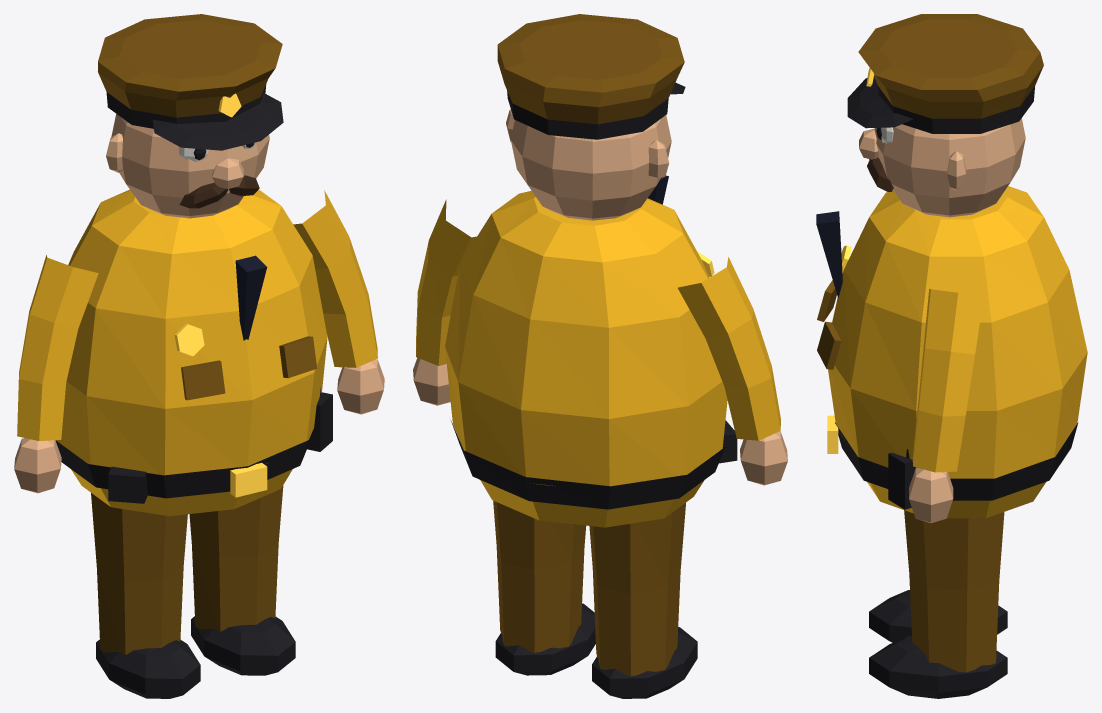
The model's file is cop_3.glb.
3 views of the same model, side by side, from view 1: azimuth 30°, elevation 25°; view 2: azimuth 150°, elevation 25°; view 3: azimuth 270°, elevation 25° (orthographic).
Parts seen in each view (by area): view 1: body_shirt, legs_pants, arms_shirt, cap_pants, legs_black, head_skin, body_black, cap_black, arms_skin, body_pants, body_gold, body_tie (+1 smaller); view 2: body_shirt, legs_pants, cap_pants, arms_shirt, head_skin, body_black, legs_black, arms_skin, cap_black; view 3: body_shirt, cap_pants, legs_pants, head_skin, arms_shirt, legs_black, body_black, cap_black, arms_skin, body_tie, body_pants, body_gold (+1 smaller).
Part boxes in pixels (x1,y1,x2,y2): body_shirt: (56, 189, 327, 516); legs_pants: (91, 485, 283, 654); arms_shirt: (17, 190, 377, 441); cap_pants: (98, 14, 282, 117); legs_black: (96, 616, 295, 698); head_skin: (106, 114, 269, 218); body_black: (55, 388, 332, 503); cap_black: (106, 84, 283, 150); arms_skin: (14, 359, 384, 493); body_pants: (181, 336, 316, 400); body_gold: (174, 324, 267, 497); body_tie: (235, 255, 267, 340); body_shirt: (445, 191, 727, 527); legs_pants: (493, 500, 685, 676); cap_pants: (497, 14, 684, 124); arms_shirt: (416, 199, 780, 440); head_skin: (506, 109, 671, 220); body_black: (450, 419, 737, 509); legs_black: (495, 603, 697, 698); arms_skin: (413, 358, 787, 485); cap_black: (507, 82, 685, 139); body_shirt: (828, 186, 1087, 518); cap_pants: (858, 14, 1043, 118); legs_pants: (904, 510, 1004, 672); head_skin: (859, 118, 1025, 217); arms_shirt: (912, 289, 983, 472); legs_black: (869, 590, 1007, 698); body_black: (835, 422, 1078, 509); cap_black: (847, 77, 1034, 133); arms_skin: (909, 468, 953, 522); body_tie: (816, 211, 842, 298); body_pants: (817, 280, 841, 369); body_gold: (827, 245, 851, 453).
Size of the model in its own units: 1.17 by 1.88 by 0.7454.
